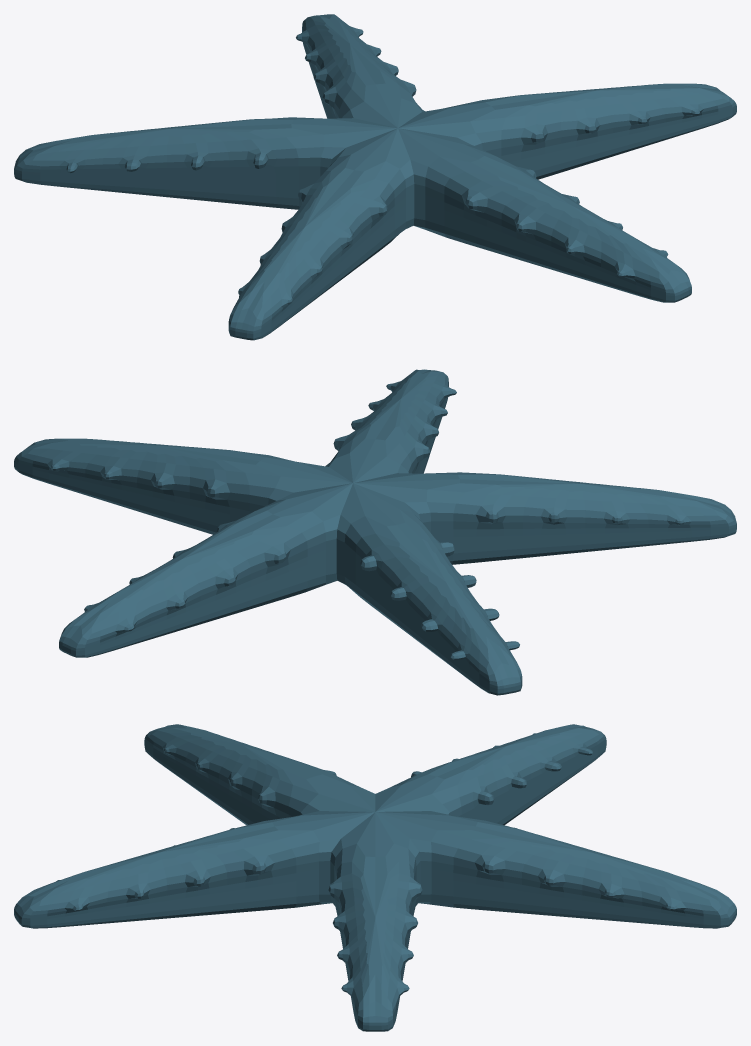
Rendered from starfish3.fbx.
3 views of the same model, one above another, from view 1: azimuth 30°, elevation 25°; view 2: azimuth 150°, elevation 25°; view 3: azimuth 270°, elevation 25° (orthographic). The views are drawn at different scales.
Parts seen in each view (by area): view 1: Cylinder; view 2: Cylinder; view 3: Cylinder.
Part boxes in pixels (bbox=[...]): Cylinder: bbox=[14, 14, 736, 340]; Cylinder: bbox=[14, 369, 736, 695]; Cylinder: bbox=[14, 724, 736, 1031].
Bounding box in the file's own units: 876 × 103 × 920.
